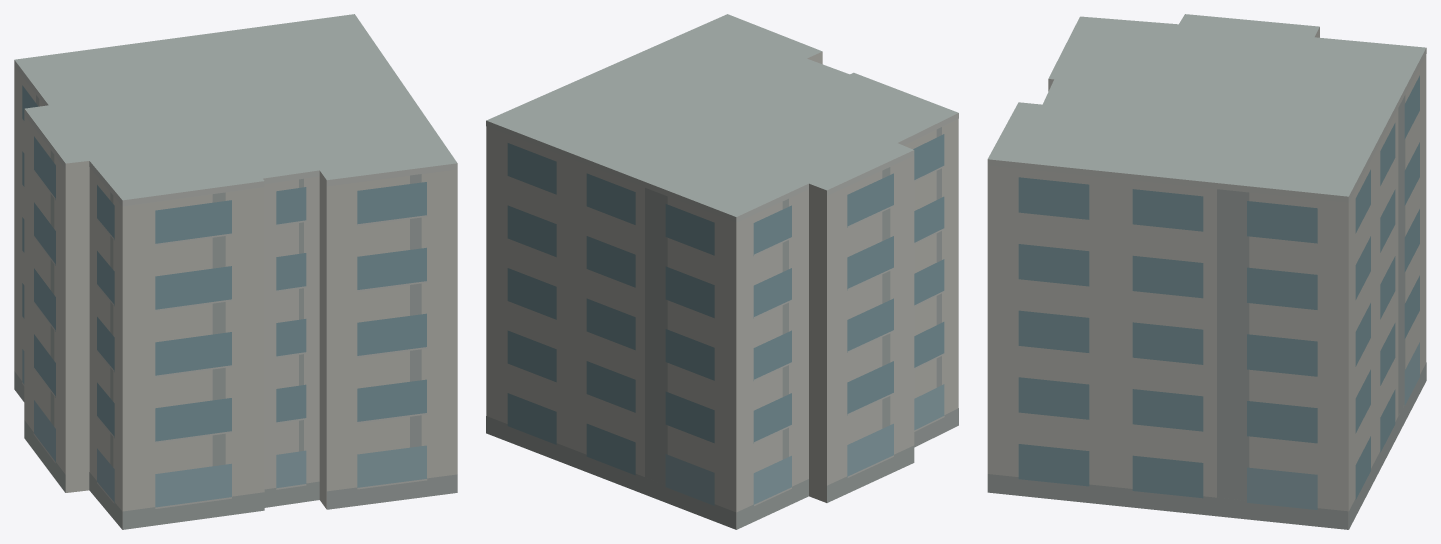
Rendered from survey-upis-32956321.glb.
3 views of the same model, side by side, from view 1: azimuth 30°, elevation 25°; view 2: azimuth 150°, elevation 25°; view 3: azimuth 270°, elevation 25° (orthographic). The views are drawn at different scales.
Parts seen in each view (by area): view 1: survey-upis-32956321.tmp; view 2: survey-upis-32956321.tmp; view 3: survey-upis-32956321.tmp.
Part boxes in pixels (left/top/right/bottom): survey-upis-32956321.tmp: left=14, top=14, right=457, bottom=529; survey-upis-32956321.tmp: left=486, top=14, right=958, bottom=529; survey-upis-32956321.tmp: left=987, top=14, right=1426, bottom=529.
Bounding box in the file's own units: 15.53 × 13.2 × 15.77.
